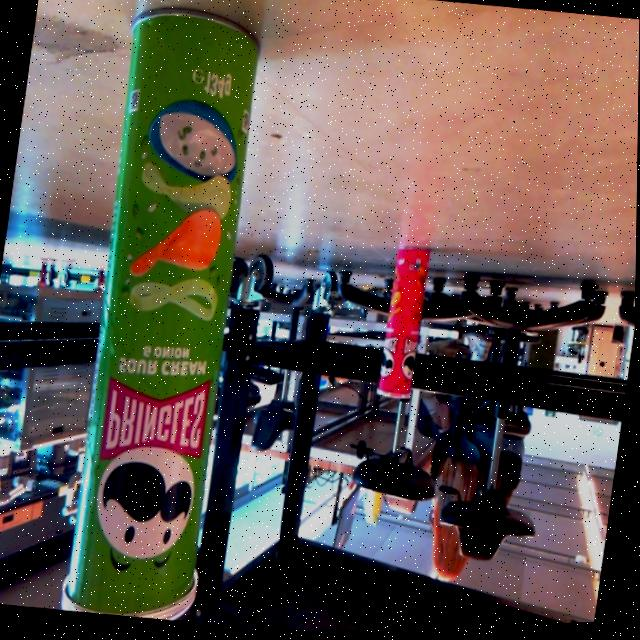greenpringles: (45, 0, 279, 626)
redpringles: (364, 233, 439, 415)
